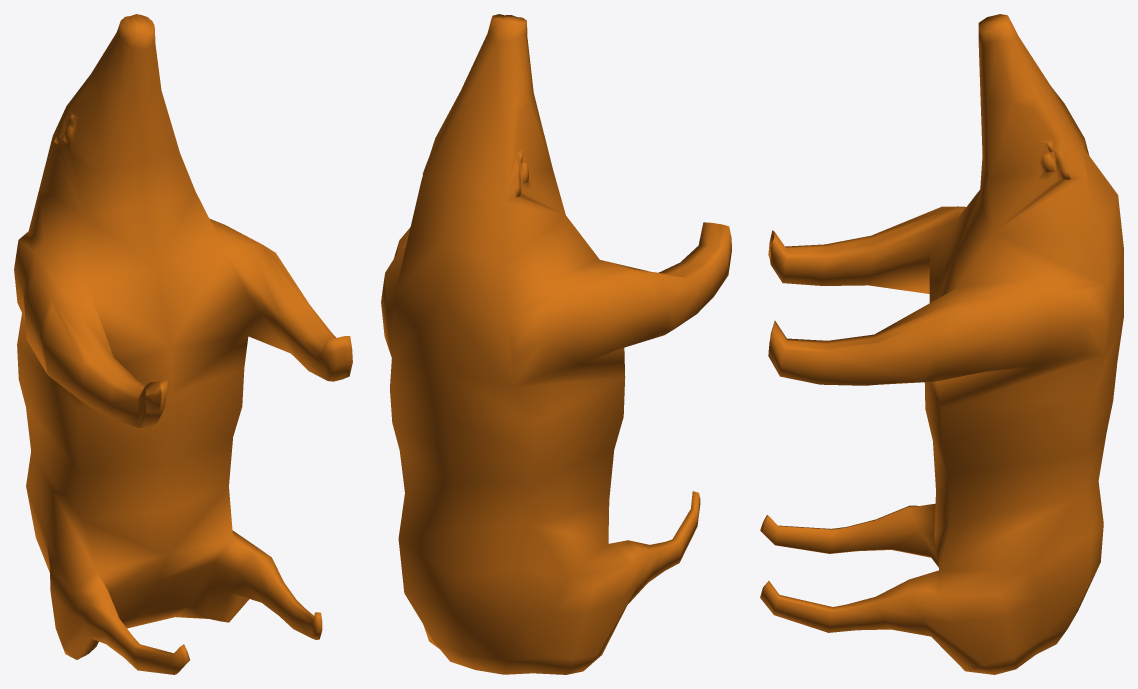
Rendered from Boar2.fbx.
3 views of the same model, side by side, from view 1: azimuth 30°, elevation 25°; view 2: azimuth 150°, elevation 25°; view 3: azimuth 270°, elevation 25° (orthographic). The views are drawn at different scales.
Parts seen in each view (by area): view 1: Cube; view 2: Cube; view 3: Cube.
Boxes of the visible parts, left/top/right/bottom form: Cube: left=14, top=14, right=352, bottom=674; Cube: left=381, top=14, right=731, bottom=674; Cube: left=760, top=14, right=1123, bottom=674.
Size of the model in its own units: 716 by 1348 by 572.
